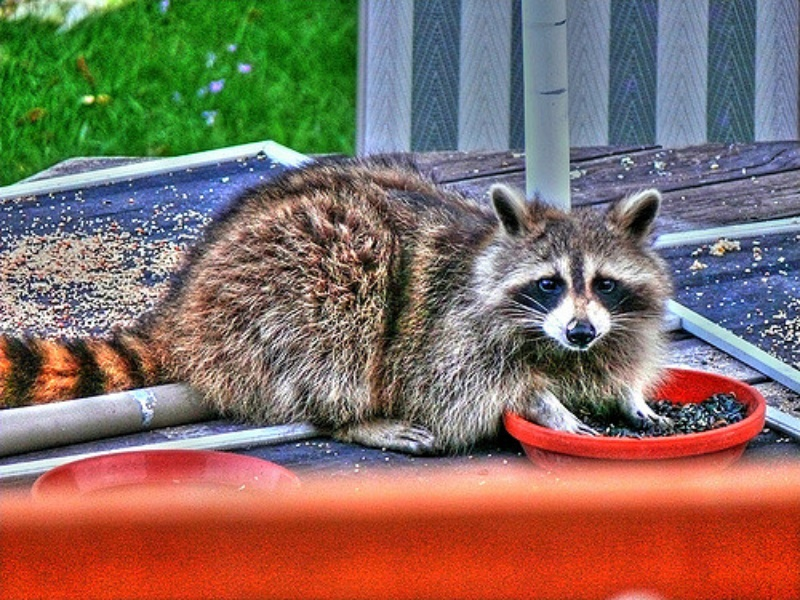raccoon: (1, 155, 678, 457)
